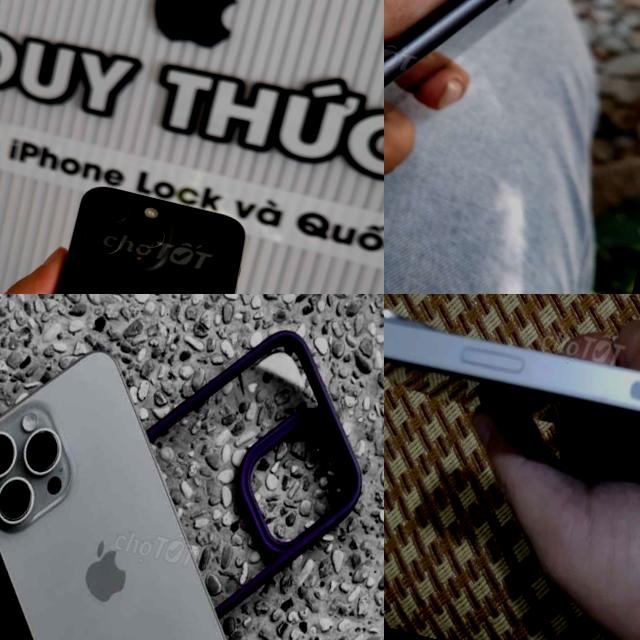gen_11: (384, 0, 604, 294)
gen_14: (384, 294, 640, 506)
gen_15: (0, 313, 328, 640), (0, 163, 290, 294)
